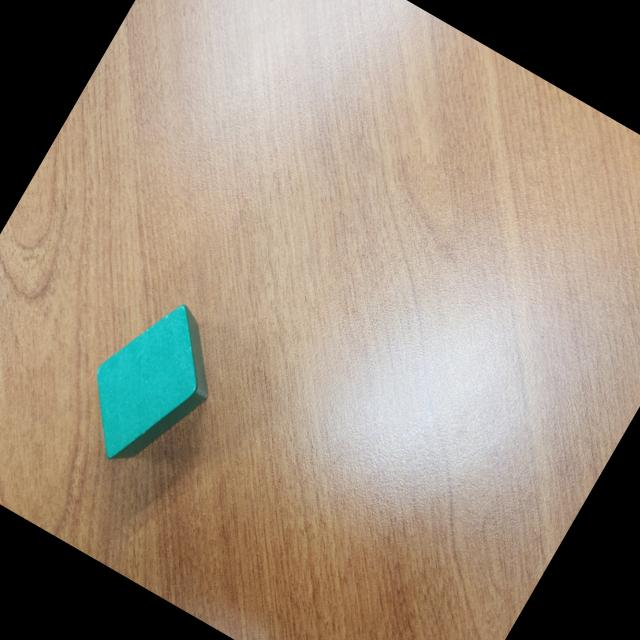green: (62, 283, 244, 487)
